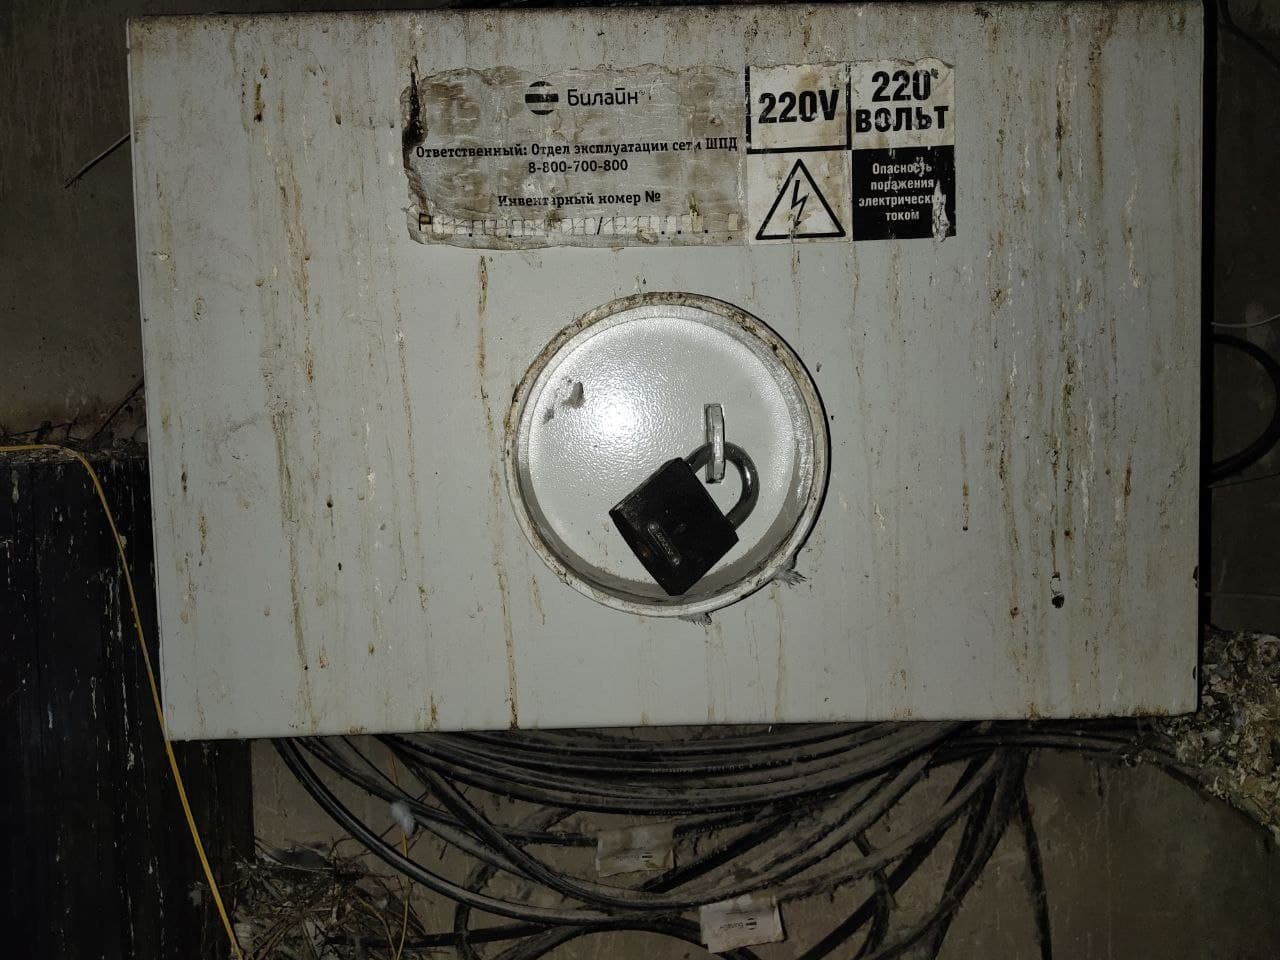shta-3: (122, 2, 1205, 739)
